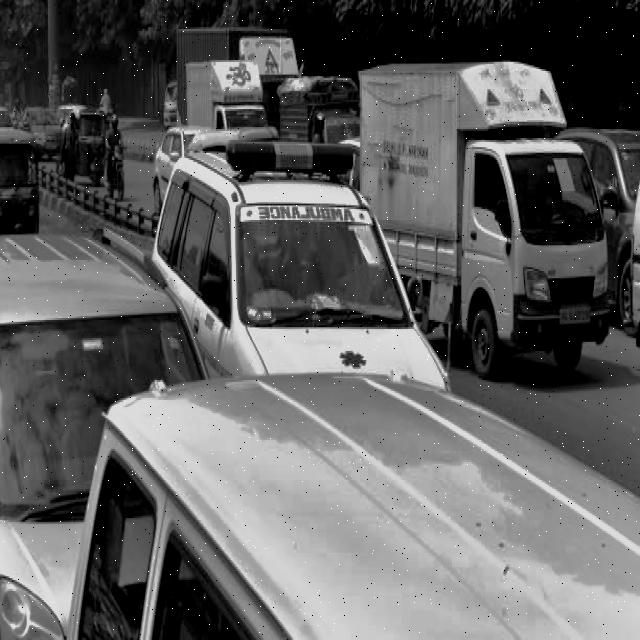Ambulance: (221, 126, 379, 286), (232, 184, 368, 249)
